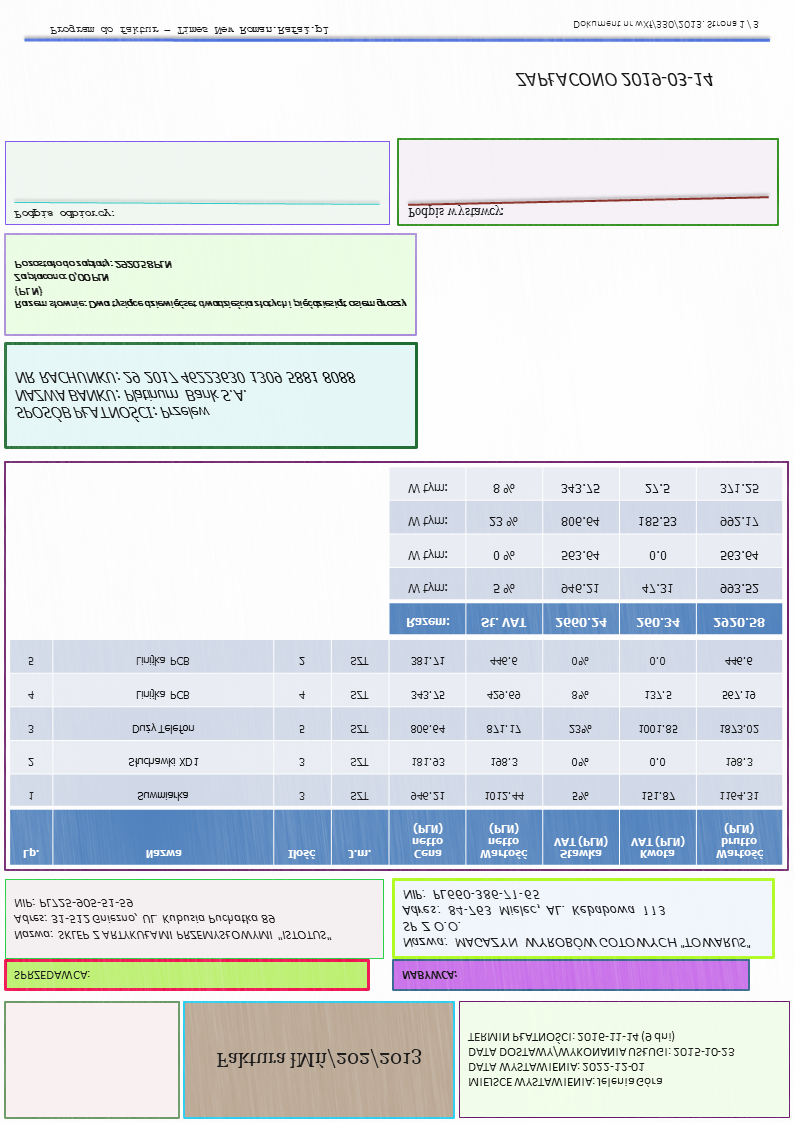Table: (8, 637, 782, 867), (388, 467, 783, 637)
TextBox: (400, 888, 752, 951), (12, 257, 409, 311), (12, 369, 357, 425), (465, 1028, 737, 1091), (11, 896, 334, 943), (213, 1045, 422, 1072), (513, 70, 714, 91), (49, 22, 329, 37), (570, 18, 761, 32), (407, 202, 505, 221), (11, 206, 115, 221), (12, 968, 90, 983), (400, 967, 458, 983)
